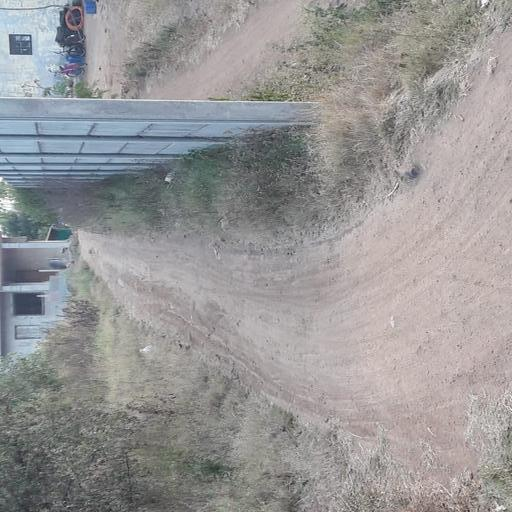vehicle_track: (78, 8, 512, 425)
